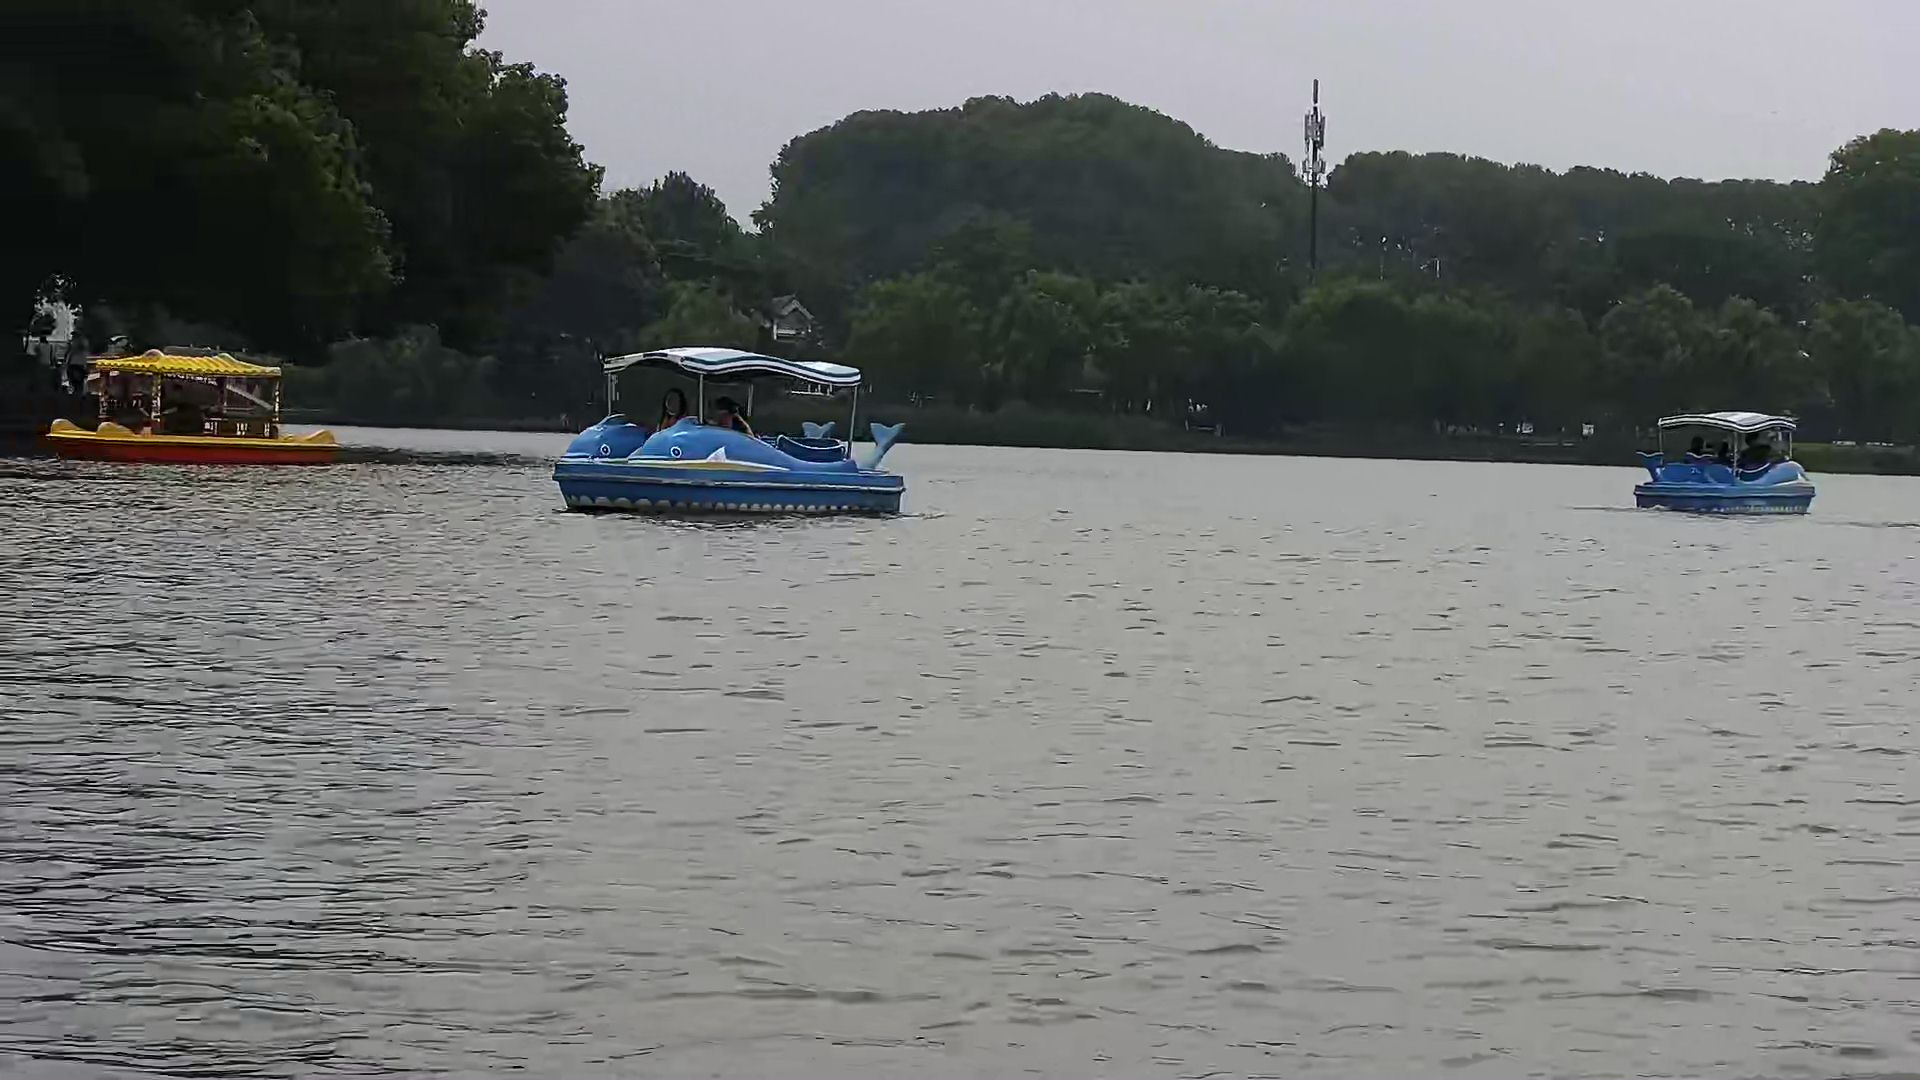boat: (558, 338, 901, 516), (41, 342, 338, 469), (1627, 393, 1826, 545)
